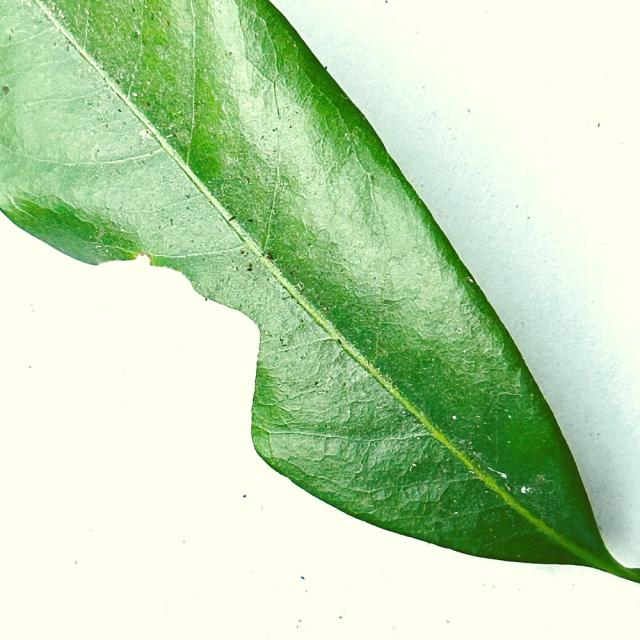Deficiency Leaf: (38, 258, 259, 441)
Lychee: (0, 0, 639, 586)
